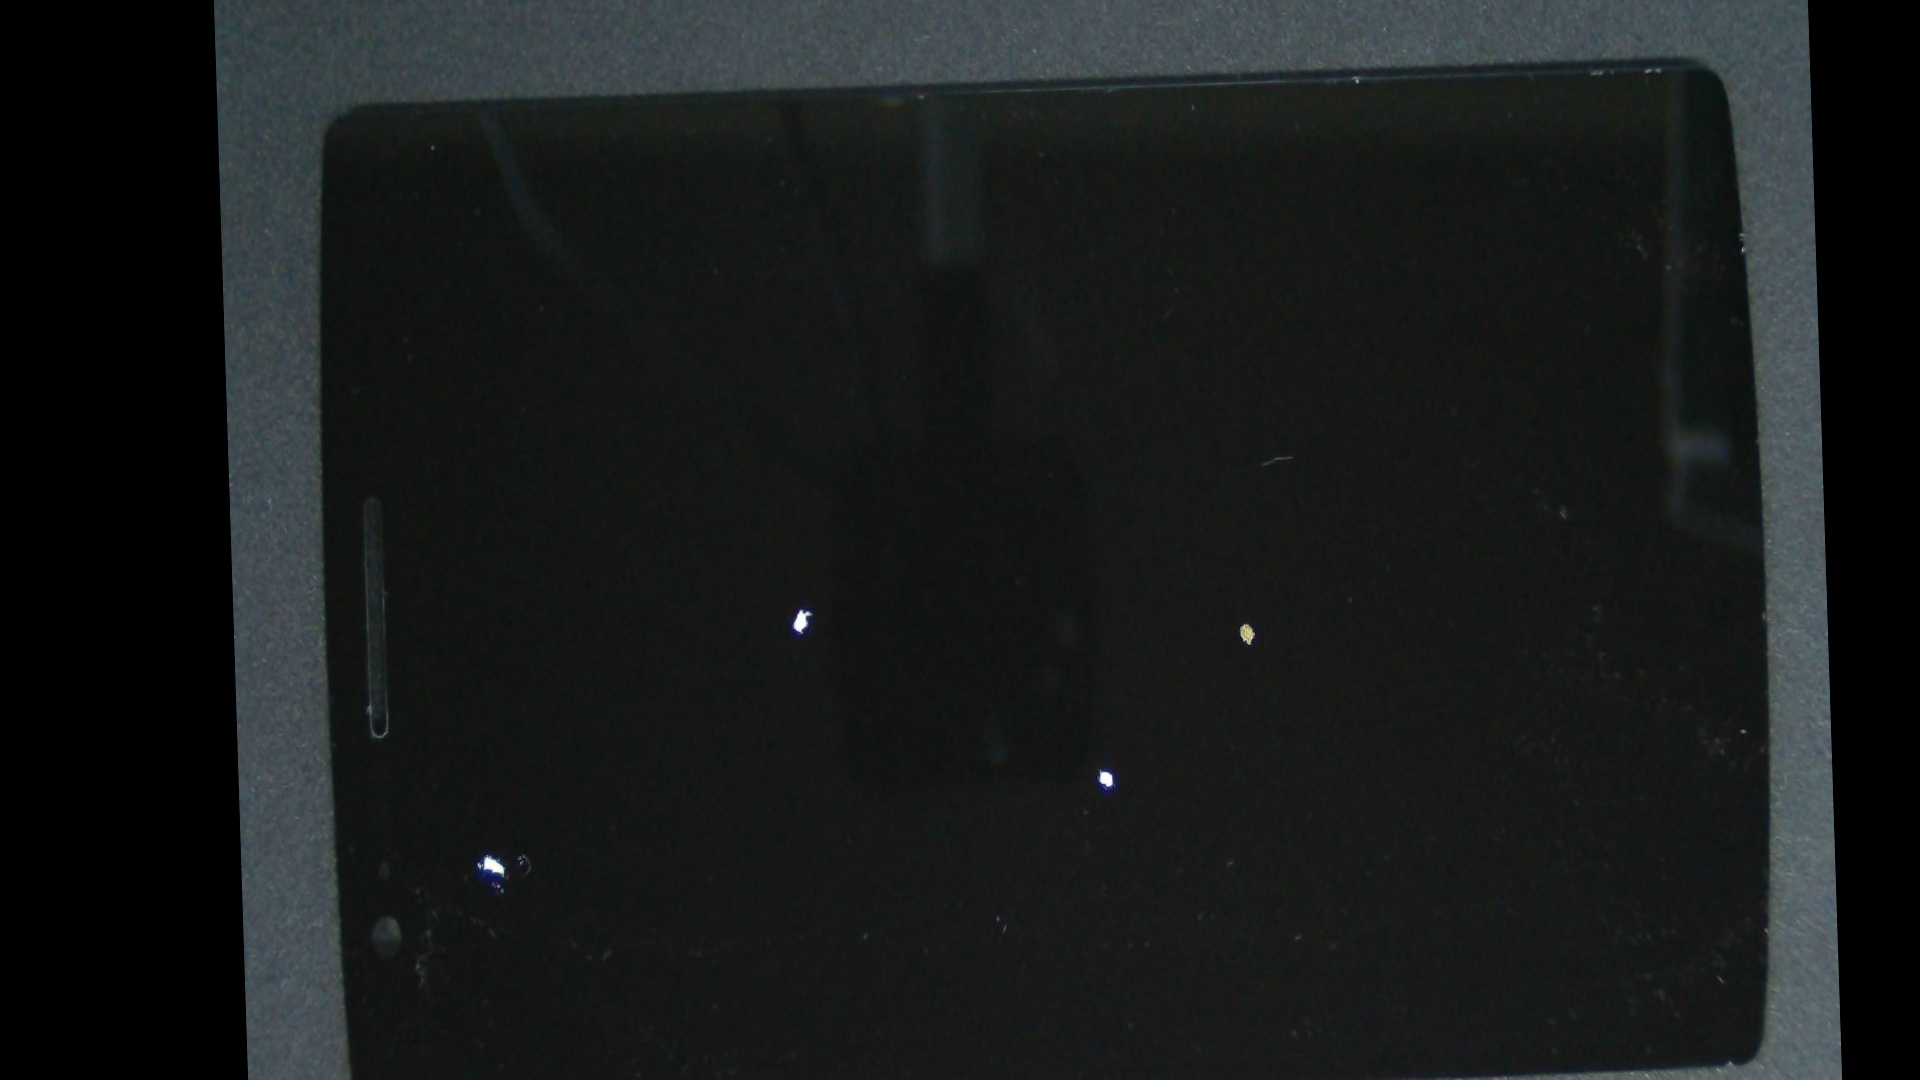oil: (729, 260, 1760, 981), (661, 338, 1555, 1080), (508, 266, 1089, 951), (349, 398, 616, 1080)
